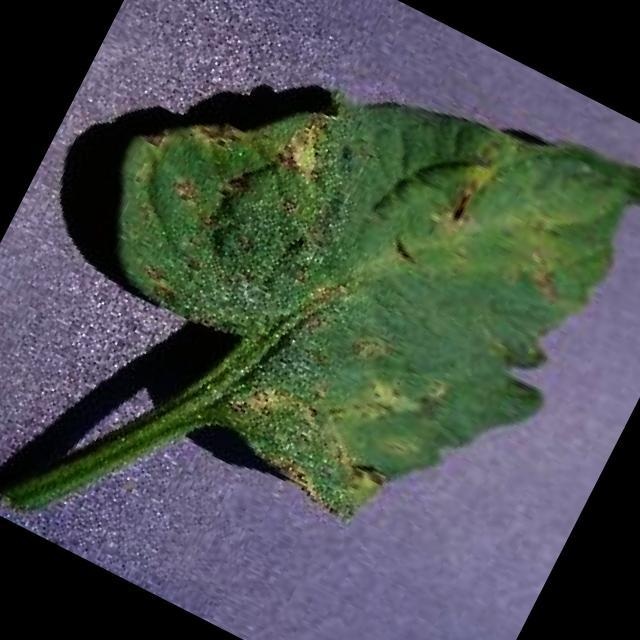Tomato Septoria spot leaf: (13, 0, 640, 611)
